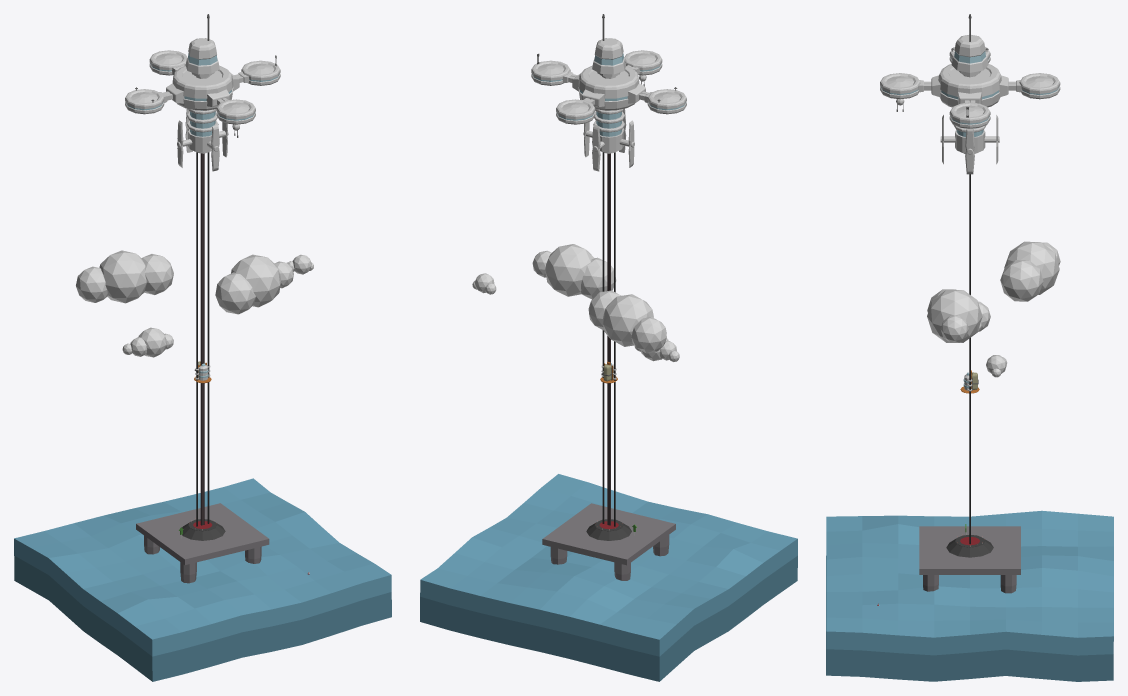
File: space_elevator.fbx
3 renders of one model, left to right at view 1: azimuth 30°, elevation 25°; view 2: azimuth 150°, elevation 25°; view 3: azimuth 270°, elevation 25°, orthographic. The views are drawn at different scales.
Visible parts, largest first — view 1: Plane, Cube, Icosphere.005, Cube.021, Cylinder, Icosphere, Icosphere.002, Cylinder.004, Cylinder.012, Icosphere.004, Icosphere.003, Cylinder.024 (+5 smaller); view 2: Plane, Cube, Icosphere, Cylinder, Icosphere.005, Cube.021, Cylinder.012, Icosphere.003, Cylinder.004, Icosphere.002, Cylinder.025, Cylinder.023 (+4 smaller); view 3: Plane, Cube, Cylinder, Icosphere, Icosphere.004, Icosphere.005, Cylinder.012, Cylinder.016, Cylinder.025, Cylinder.024, Cylinder.004, Icosphere.001 (+1 smaller).
Boxes of the visible parts, x1,y1,x2,y2 form: Plane: (14,478,391,681); Cube: (136,503,269,564); Icosphere.005: (99,250,146,303); Cube.021: (200,153,204,525); Cylinder: (172,65,233,110); Icosphere: (231,254,281,307); Icosphere.002: (215,272,255,314); Cylinder.004: (207,152,209,523); Cylinder.012: (185,38,219,74); Icosphere.004: (141,254,173,294); Icosphere.003: (76,266,107,302); Cylinder.024: (216,99,255,124); Plane: (420,474,797,681); Cube: (542,503,675,565); Icosphere: (545,244,594,296); Cylinder: (578,65,639,110); Icosphere.005: (603,294,653,346); Cube.021: (607,153,610,525); Cylinder.012: (592,38,626,74); Icosphere.003: (631,317,666,353); Cylinder.004: (602,152,604,523); Icosphere.002: (580,257,616,299); Cylinder.025: (556,99,595,124); Cylinder.023: (647,89,686,114); Plane: (826,510,1113,681); Cube: (919,526,1020,574); Cylinder: (938,64,1001,107); Icosphere: (927,290,982,342); Icosphere.004: (1000,260,1043,301); Icosphere.005: (1004,241,1059,294); Cylinder.012: (951,35,988,72); Cylinder.016: (949,102,990,128); Cylinder.025: (1019,73,1060,99); Cylinder.024: (880,73,920,99); Cylinder.004: (969,174,970,544); Icosphere.001: (940,315,968,342).
Bounding box in the file's own units: 7030 × 16220 × 6935.
